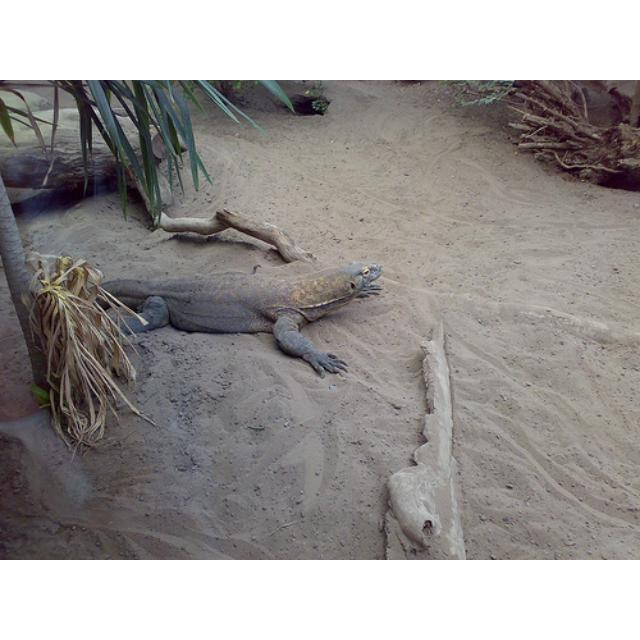KomodoDragon: (78, 264, 387, 381)
